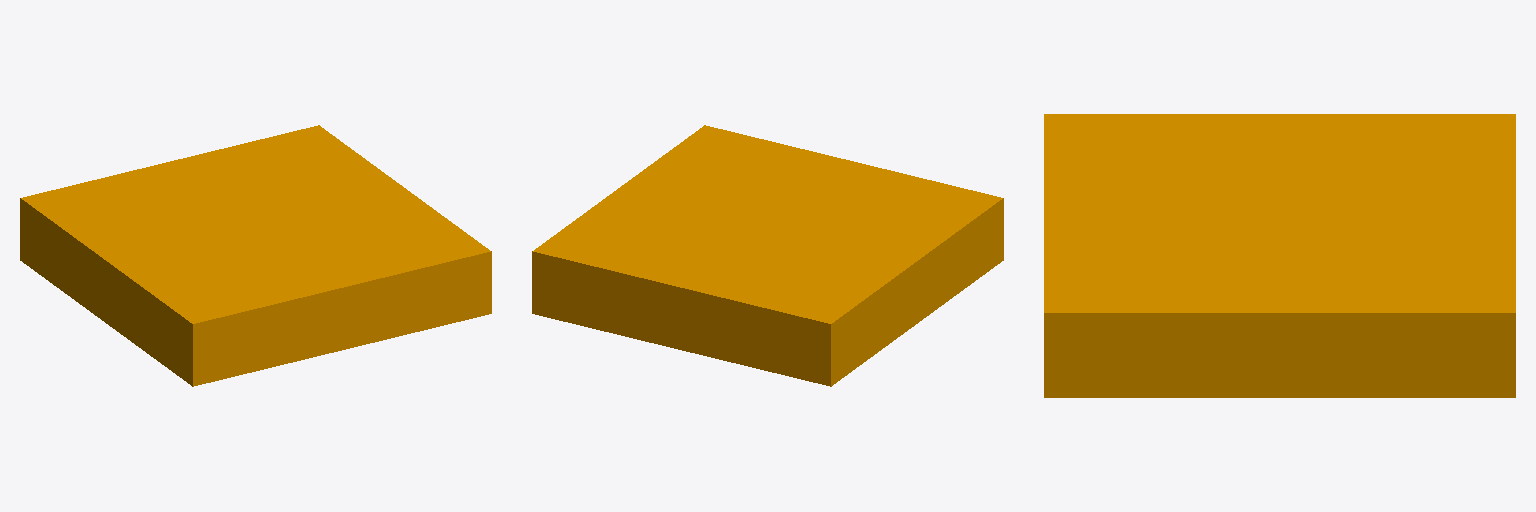
URDF robot description (ar_tag):
<robot name="ar_tag">

	<link name="simple_box_base_link">
		<inertial>
			<origin xyz="0 0 0" rpy="0 0 0"/>
			<mass value="10.0"/>
			<inertia ixx="0.074166666667" ixy="0.0" ixz="0.0" iyy="0.05854166667" iyz="0.0" izz="0.02604166667"/>
		</inertial>
		<collision>
			<origin xyz="0 0 0" rpy="0 0 0"/>
			<geometry>
				<box size="0.1 0.1 0.1"/>
			</geometry>
		</collision>
		<visual>
			<origin rpy="0 0 0" xyz="0 0 0"/>
			<geometry>
				<mesh filename="package://ar_tag_description/meshes/AR0.dae"/>
			</geometry>
		</visual>
	</link>

	<gazebo reference="simple_box_base_link">
		<kp>100000.0</kp>
		<kd>100000.0</kd>
		<mu1>0.1</mu1>
		<mu2>0.1</mu2>
		<fdir1>1 0 0</fdir1>
                <gravity>false</gravity>
	</gazebo>

</robot>

--- Facts derived from the render (not from the file) ---
Views: 3 orthographic renders of the robot side by side, from view 1: azimuth 30°, elevation 25°; view 2: azimuth 150°, elevation 25°; view 3: azimuth 270°, elevation 25°.
Robot: ar_tag — 1 links, 0 joints (none); root link simple_box_base_link; default pose: all joints at 0.
Visible links, largest first — view 1: simple_box_base_link; view 2: simple_box_base_link; view 3: simple_box_base_link.
Boxes of the visible links, bbox=[...] form: simple_box_base_link: bbox=[20, 125, 491, 386]; simple_box_base_link: bbox=[532, 125, 1003, 386]; simple_box_base_link: bbox=[1044, 114, 1515, 397].
Size in the robot's own frame: 0.09 by 0.09 by 0.018 metres.
1 mesh visuals loaded from 1 distinct referenced files (1 Collada DAE).